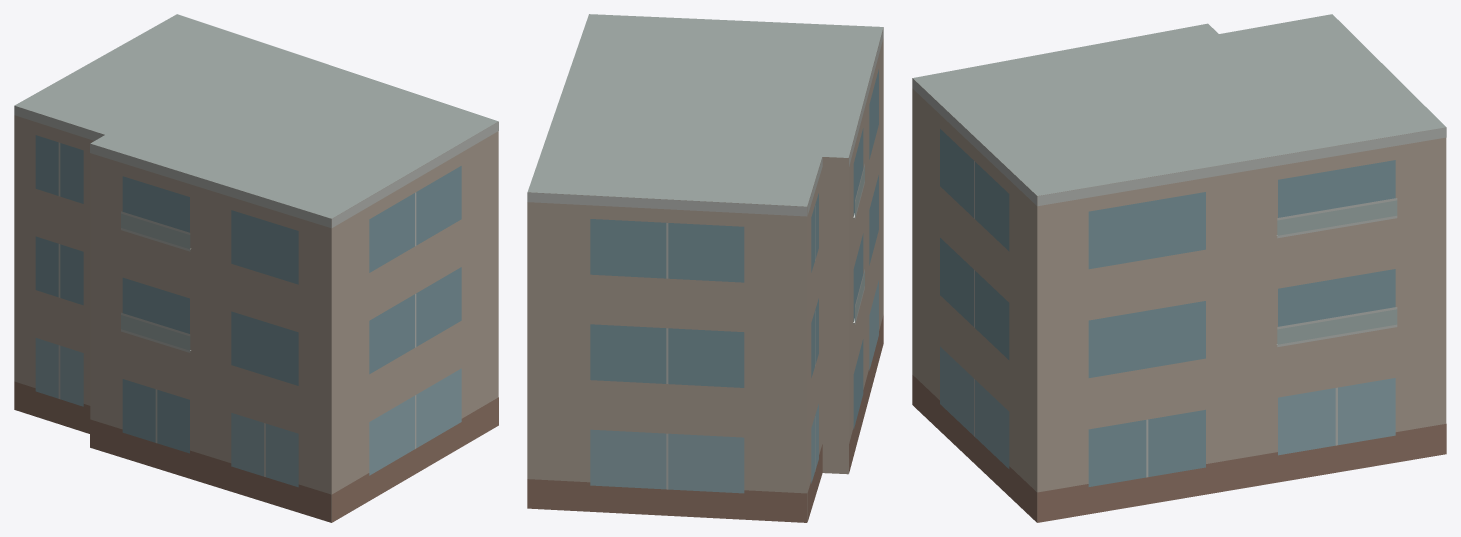
Rendered from survey-upis-32982861.glb.
The picture shows the model from 3 angles, left to right: view 1: azimuth 30°, elevation 25°; view 2: azimuth 150°, elevation 25°; view 3: azimuth 270°, elevation 25°; orthographic projection. The views are drawn at different scales.
Parts seen in each view (by area): view 1: survey-upis-32982861.tmp; view 2: survey-upis-32982861.tmp; view 3: survey-upis-32982861.tmp.
Boxes of the visible parts, x1,y1,x2,y2 form: survey-upis-32982861.tmp: (14, 14, 498, 522); survey-upis-32982861.tmp: (527, 14, 883, 522); survey-upis-32982861.tmp: (912, 14, 1446, 522).
Size of the model in its own units: 9.33 by 7.8 by 11.56.
